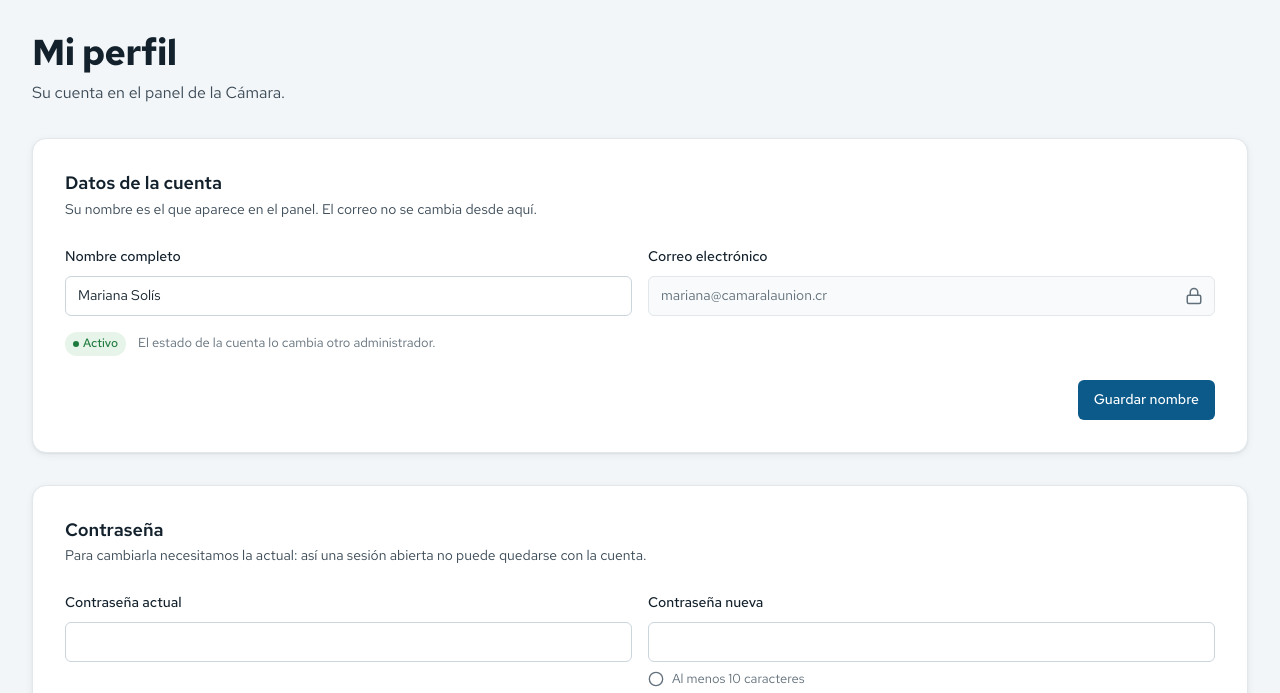
Test: AdminProfilePage › a failure that is not about a field is shown as an alert
Expected: the field labelled "Nombre completo" is shown, [65, 276, 632, 316]
Click the button "Guardar nombre".
click(1146, 400)  # box [1078, 380, 1215, 420]
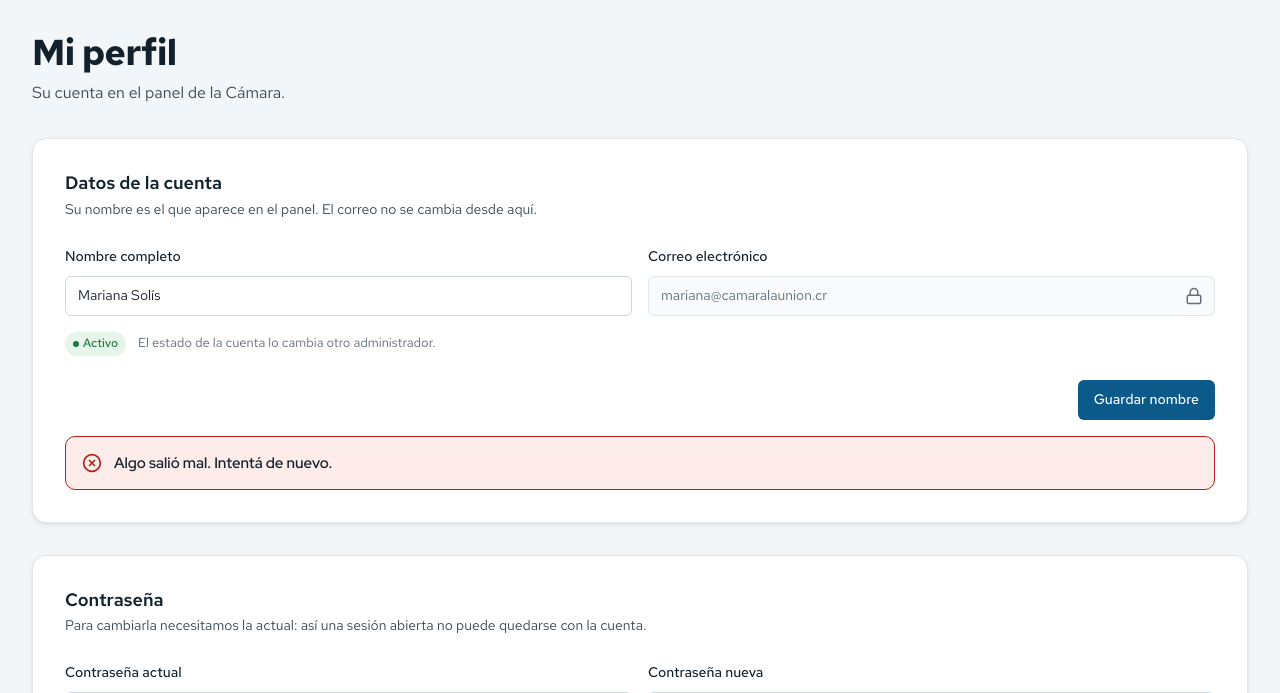
Result: the text "Algo salió mal. Intentá de nuevo." is shown at [114, 453, 332, 473]
